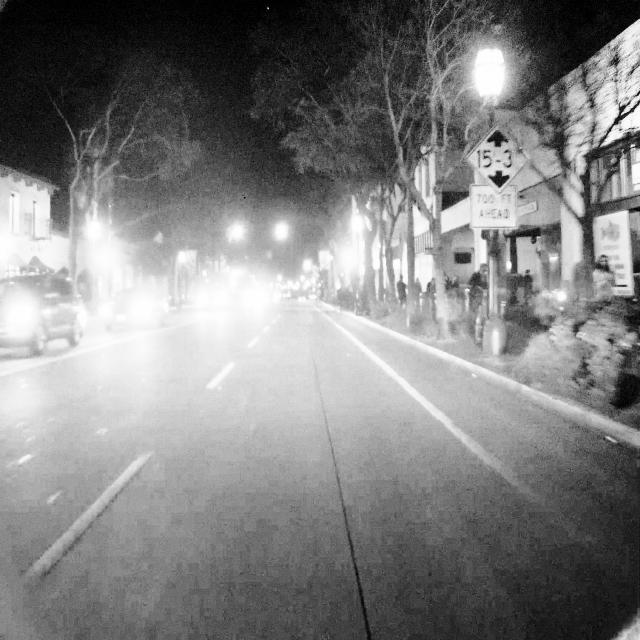Car: (1, 269, 86, 354)
Sign: (465, 122, 529, 193), (469, 184, 518, 230)
Tree: (522, 39, 640, 383)
